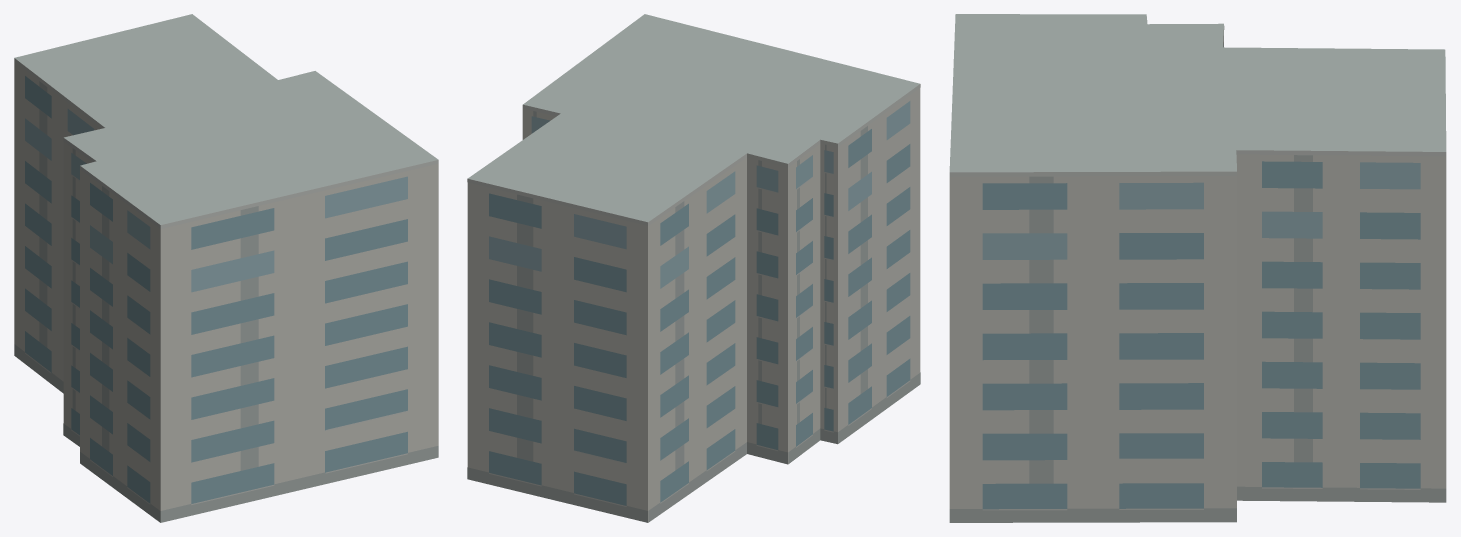
The model's file is survey-upis-32809355.glb.
3 views of the same model, side by side, from view 1: azimuth 30°, elevation 25°; view 2: azimuth 150°, elevation 25°; view 3: azimuth 270°, elevation 25° (orthographic). The views are drawn at different scales.
Parts seen in each view (by area): view 1: survey-upis-32809355.tmp; view 2: survey-upis-32809355.tmp; view 3: survey-upis-32809355.tmp.
Part boxes in pixels (<box>): survey-upis-32809355.tmp: <box>14,14,438,522</box>; survey-upis-32809355.tmp: <box>467,14,920,522</box>; survey-upis-32809355.tmp: <box>949,14,1446,522</box>.
Bounding box in the file's own units: 18.52 × 19.1 × 24.54.
